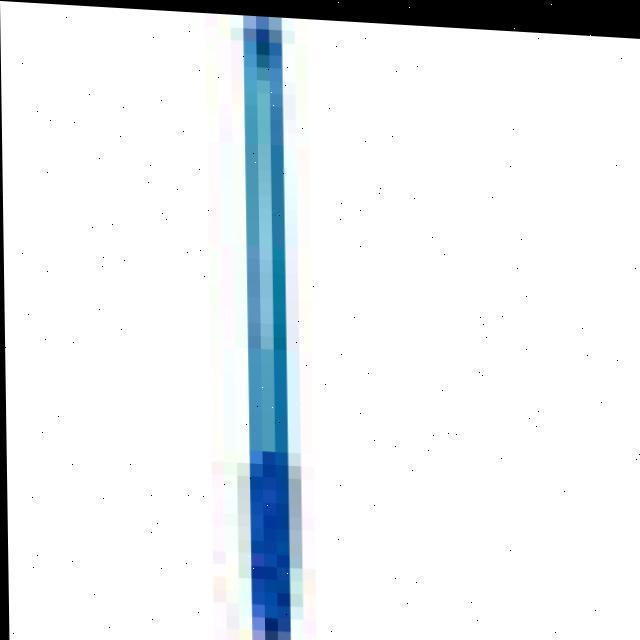Pen - Non Recyclable: (231, 24, 289, 640)
